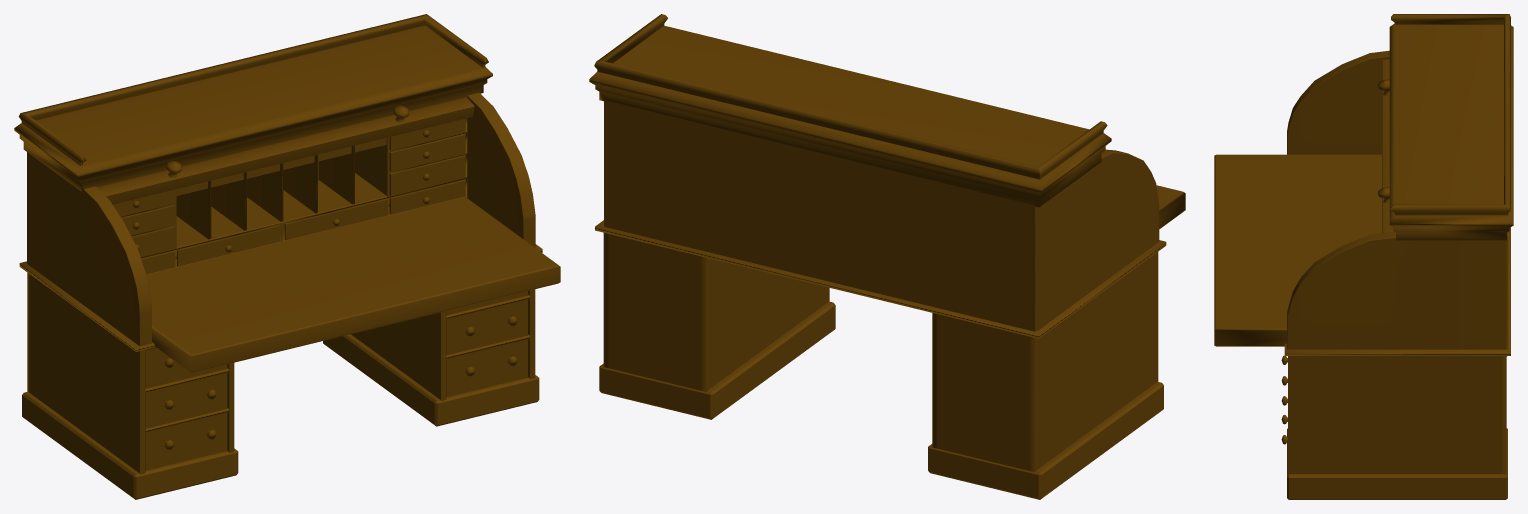
File: Desk_Low.fbx
3 renders of one model, left to right at view 1: azimuth 30°, elevation 25°; view 2: azimuth 150°, elevation 25°; view 3: azimuth 270°, elevation 25°, orthographic. The views are drawn at different scales.
Parts seen in each view (by area): view 1: Desk_Base_low, Drawers_2_low, Drawers_1_low, Handle_low, Drawers_4_low, Drawers_3_low, WoodSticks_low, Planes_low; view 2: Desk_Base_low; view 3: Desk_Base_low, Handle_low.
Part boxes in pixels (x1=…): Desk_Base_low: x1=14, y1=14, x2=560, y2=499; Drawers_2_low: x1=113, y1=118, x2=527, y2=470; Drawers_1_low: x1=121, y1=134, x2=527, y2=430; Handle_low: x1=97, y1=97, x2=474, y2=204; Drawers_4_low: x1=284, y1=199, x2=388, y2=240; Drawers_3_low: x1=177, y1=225, x2=280, y2=266; WoodSticks_low: x1=145, y1=294, x2=529, y2=432; Planes_low: x1=176, y1=138, x2=386, y2=195; Desk_Base_low: x1=589, y1=14, x2=1185, y2=499; Desk_Base_low: x1=1214, y1=14, x2=1513, y2=499; Handle_low: x1=1377, y1=59, x2=1393, y2=233.
Bounding box in the file's own units: 6.68 × 4.68 × 4.3.
